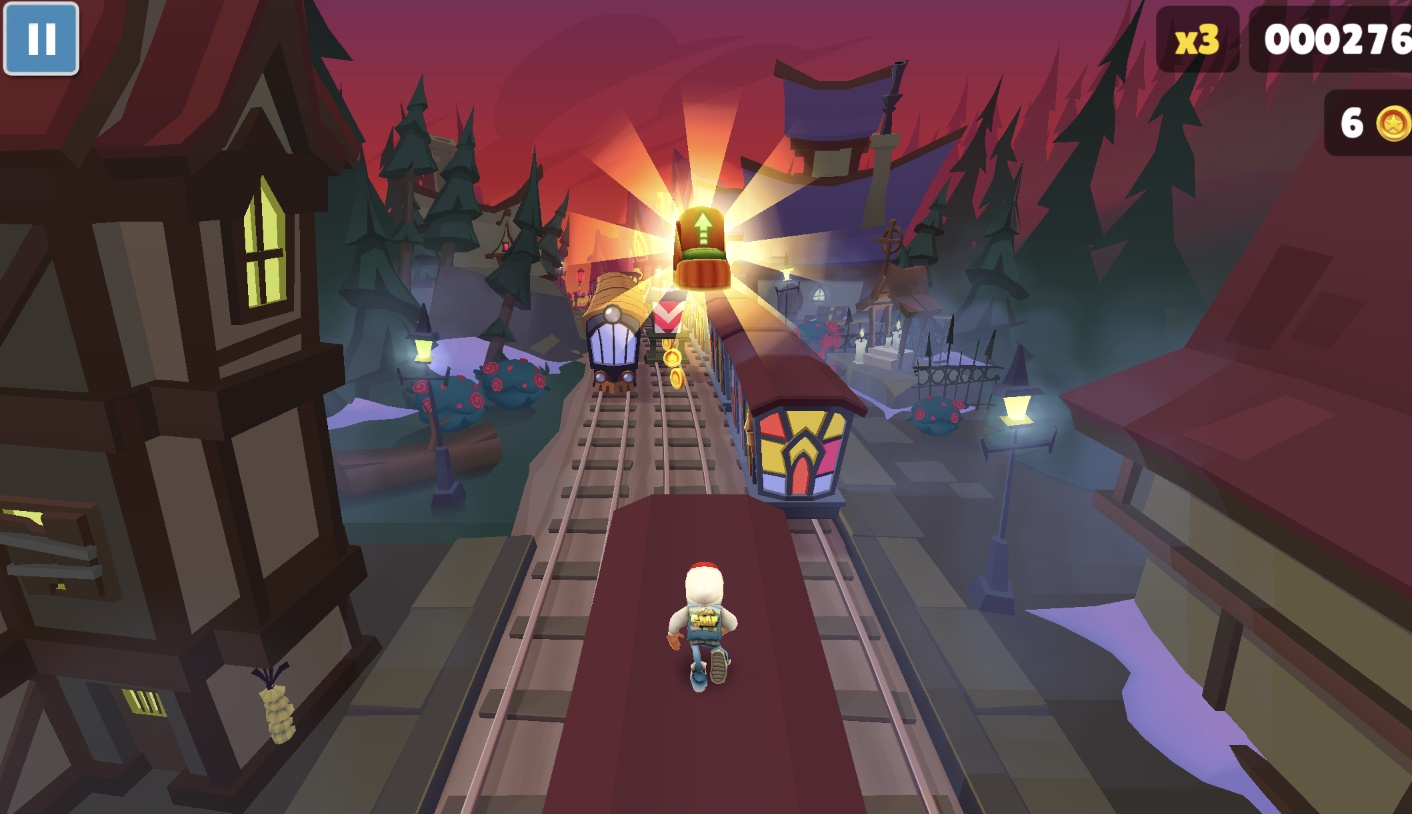overhead_barrier: (643, 285, 692, 364)
train: (542, 515, 865, 814), (691, 280, 875, 529), (578, 272, 646, 396)
